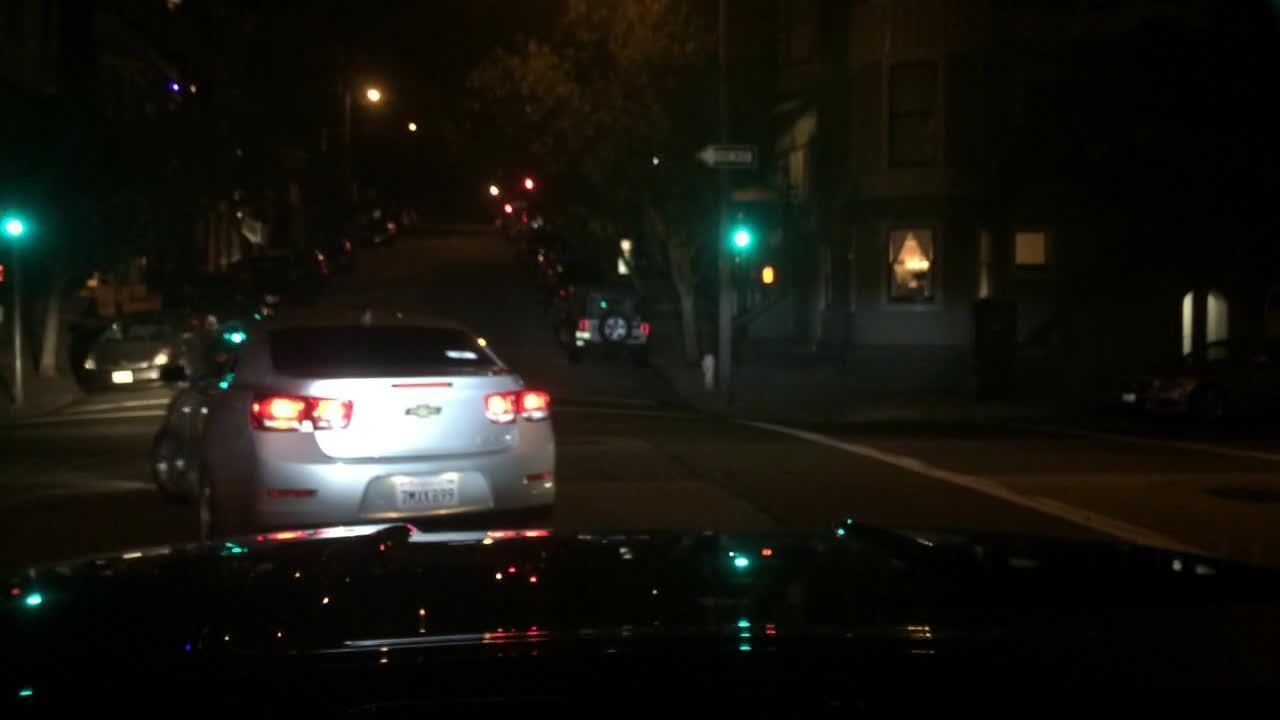chevrolet: (400, 399, 446, 423)
